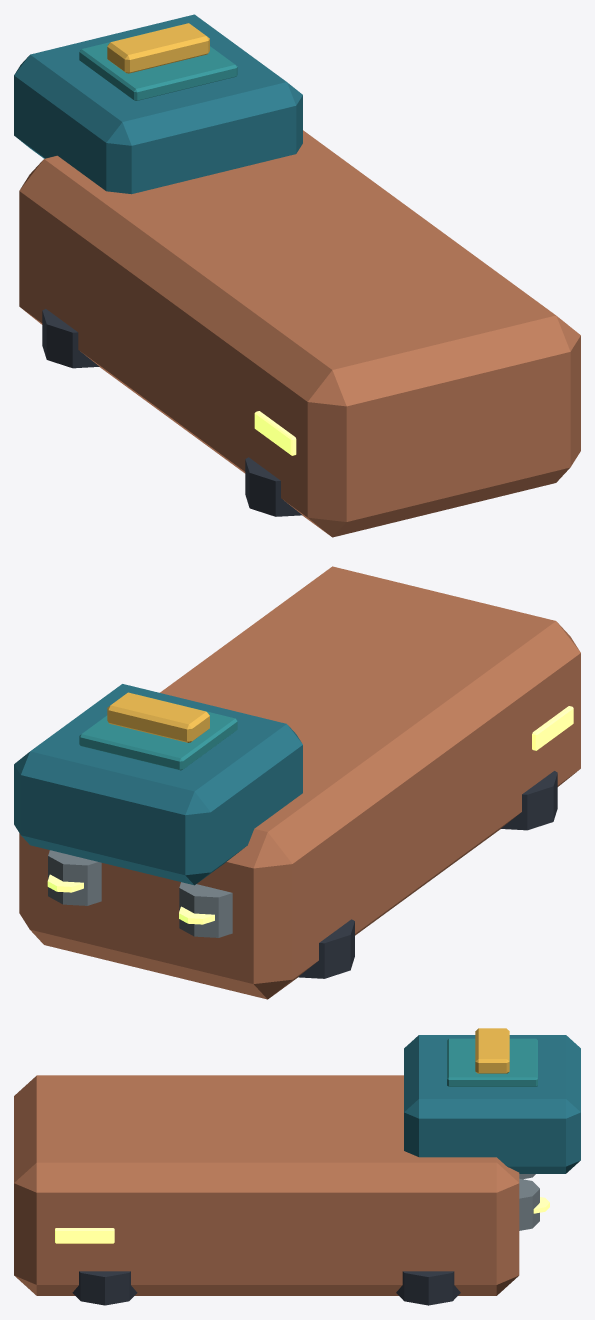
The model's file is vehicles_026_seed11.glb.
The picture shows the model from 3 angles, top to bottom: view 1: azimuth 30°, elevation 25°; view 2: azimuth 150°, elevation 25°; view 3: azimuth 270°, elevation 25°; orthographic projection. The views are drawn at different scales.
Parts seen in each view (by area): view 1: vehicles_026_seed11; view 2: vehicles_026_seed11; view 3: vehicles_026_seed11.
Boxes of the visible parts, x1,y1,x2,y2 form: vehicles_026_seed11: (14,14,580,537); vehicles_026_seed11: (14,566,580,999); vehicles_026_seed11: (14,1028,580,1305).
Bounding box in the file's own units: 1.96 × 1.62 × 3.98.
